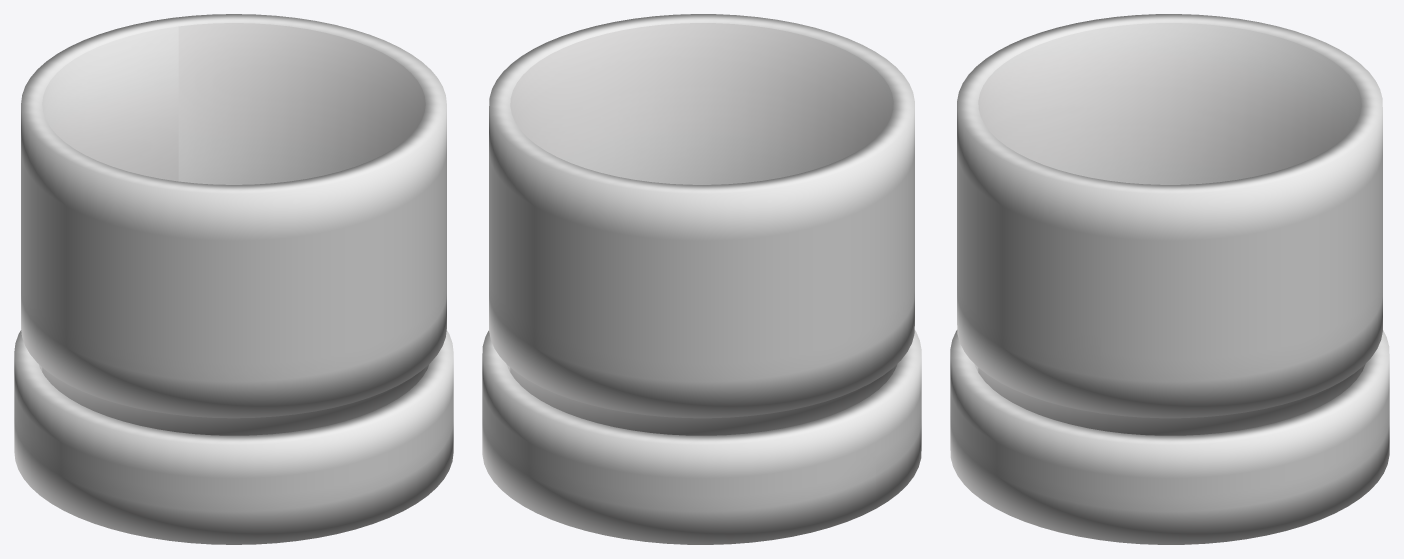
Rendered from 화분New.obj.
The picture shows the model from 3 angles, left to right: view 1: azimuth 30°, elevation 25°; view 2: azimuth 150°, elevation 25°; view 3: azimuth 270°, elevation 25°; orthographic projection.
Visible parts, largest first — view 1: Object024; view 2: Object024; view 3: Object024.
Part boxes in pixels (x1,y1,x2,y2): Object024: (14,14,453,544); Object024: (482,14,921,544); Object024: (950,14,1389,544).
Bounding box in the file's own units: 205 × 179 × 205.
